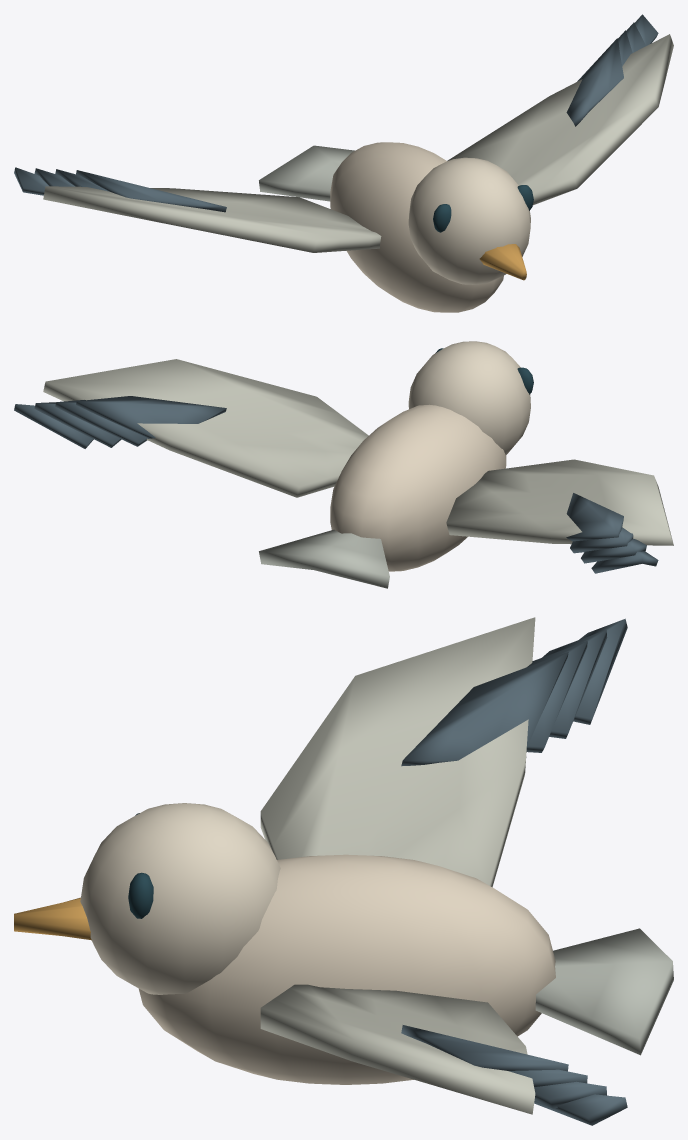
Rendered from bird.glb.
3 views of the same model, one above another, from view 1: azimuth 30°, elevation 25°; view 2: azimuth 150°, elevation 25°; view 3: azimuth 270°, elevation 25° (orthographic). The views are drawn at different scales.
Parts seen in each view (by area): view 1: food_bird_painted_mesh; view 2: food_bird_painted_mesh; view 3: food_bird_painted_mesh.
Part boxes in pixels (x1,y1,x2,y2): food_bird_painted_mesh: (14, 14, 673, 312); food_bird_painted_mesh: (14, 341, 673, 588); food_bird_painted_mesh: (14, 617, 673, 1125).
Size of the model in its own units: 2.42 by 0.62 by 1.39.
